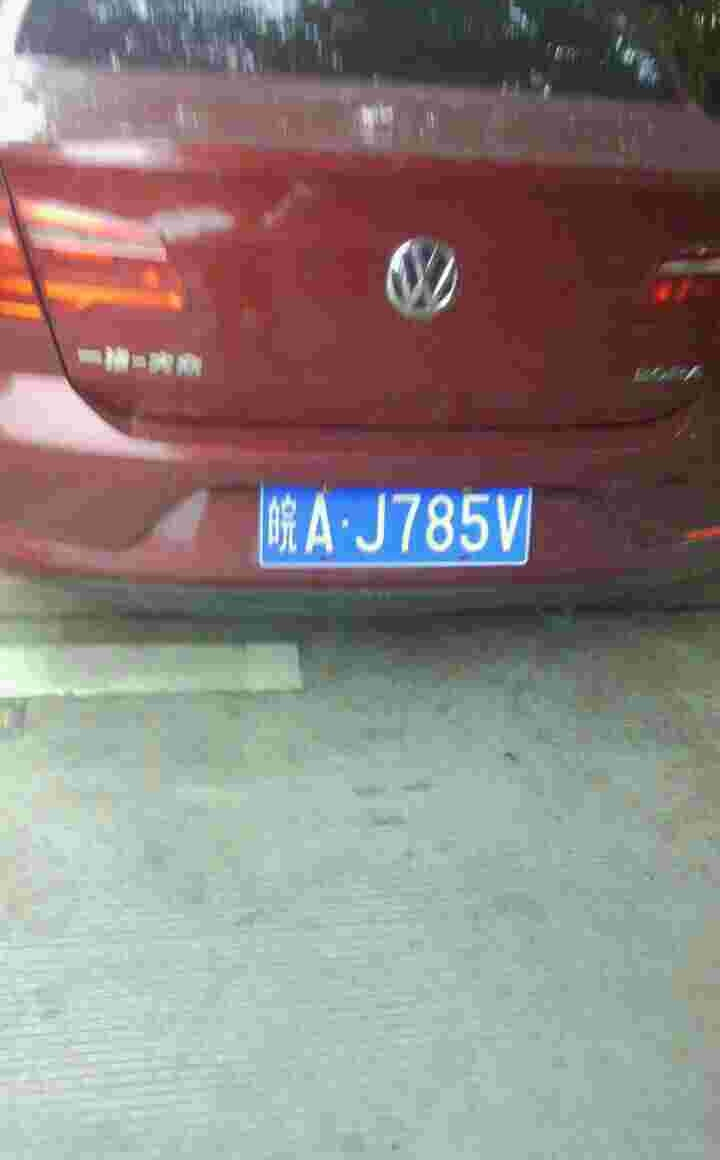license_plate: (258, 483, 534, 552)
